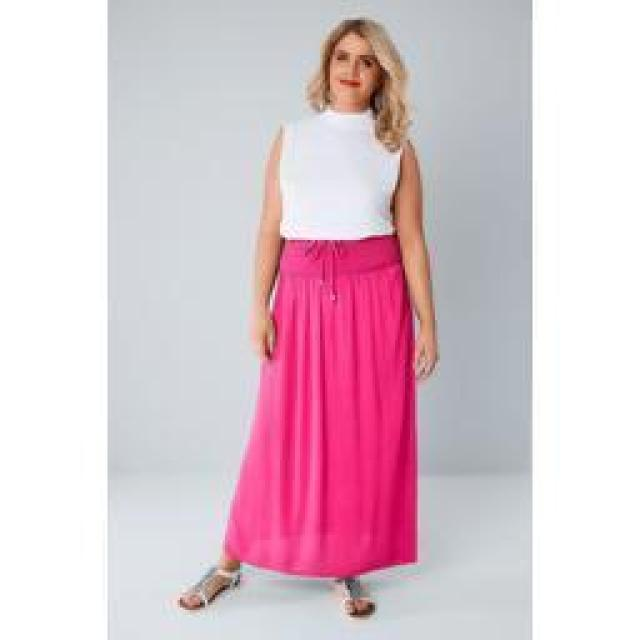Tshirt: (279, 109, 406, 239)
skirt: (222, 234, 420, 578)
